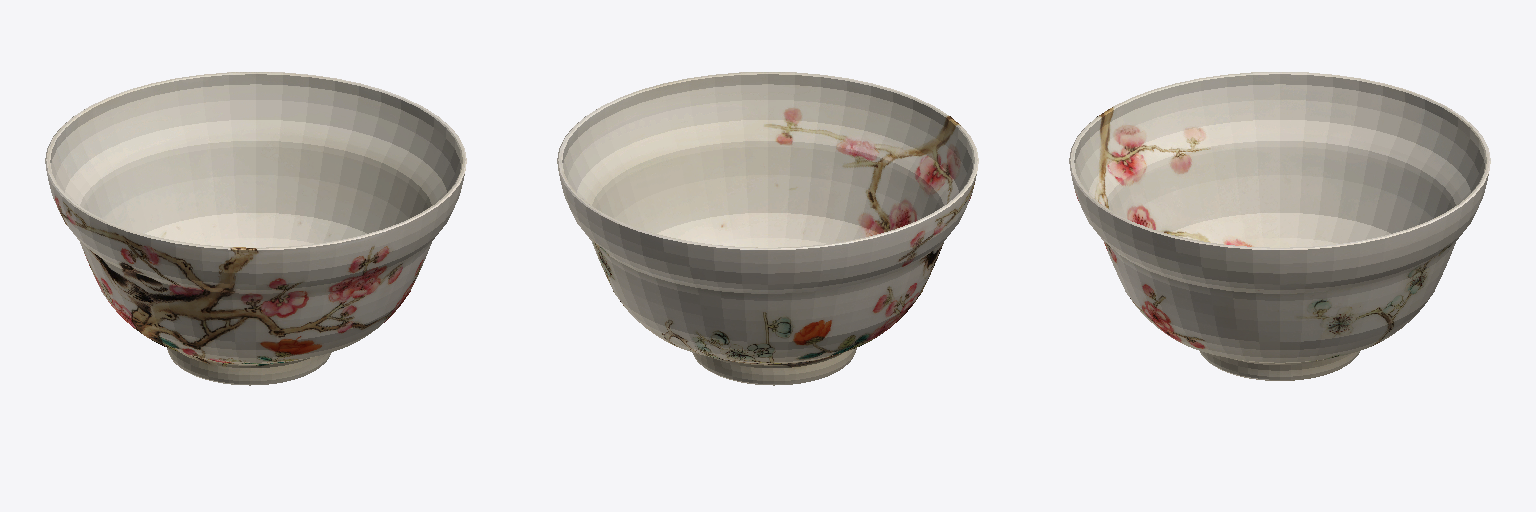
3 views of the same model, side by side, from view 1: azimuth 30°, elevation 25°; view 2: azimuth 150°, elevation 25°; view 3: azimuth 270°, elevation 25° (orthographic).
Parts seen in each view (by area): view 1: objSZB_ZL_133; view 2: objSZB_ZL_133; view 3: objSZB_ZL_133.
Boxes of the visible parts, x1,y1,x2,y2 form: objSZB_ZL_133: [45, 72, 466, 385]; objSZB_ZL_133: [557, 72, 978, 385]; objSZB_ZL_133: [1069, 72, 1490, 380].
Size of the model in its own units: 126 by 62.87 by 126.
Materials: 1 (1 with a texture image).